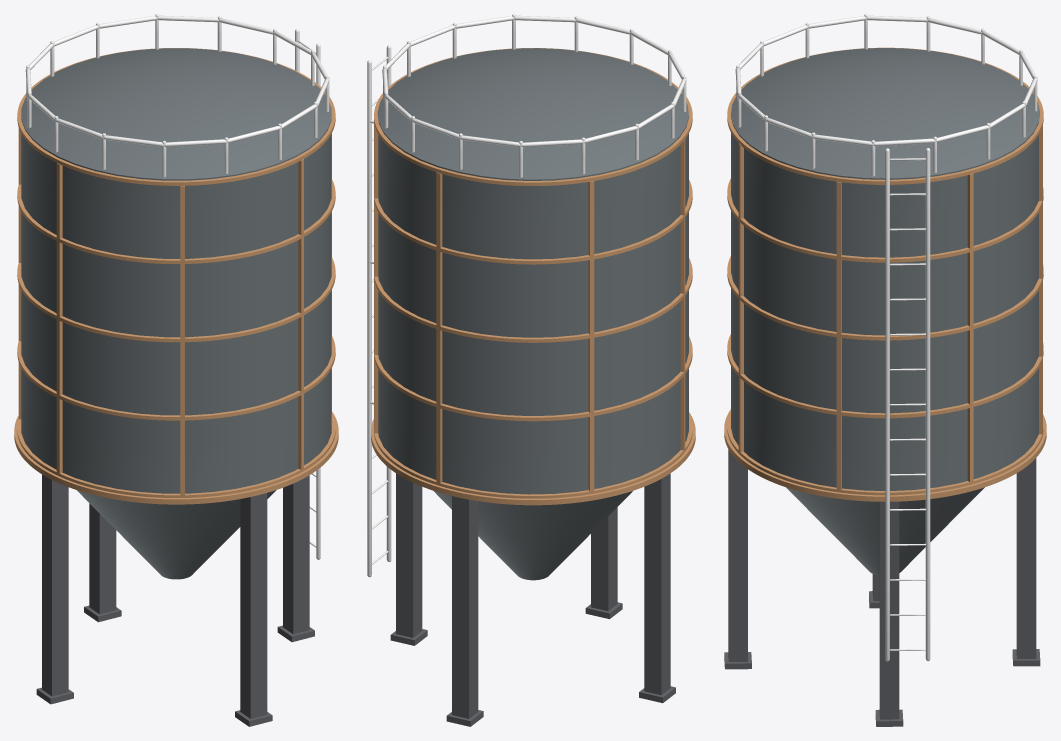
The model's file is p4_plantComponents.gltf.
3 renders of one model, left to right at view 1: azimuth 30°, elevation 25°; view 2: azimuth 150°, elevation 25°; view 3: azimuth 270°, elevation 25°, orthographic.
Parts seen in each view (by area): view 1: Oil Tank, Cube, Cube.2, Cube.3, Cube.1, Tube 4, Tube, Tube 1, Tube 2, Tube 3, Cube 5, Tube 0 (+4 smaller); view 2: Oil Tank, Cube.1, Cube.2, Cube.3, Cube, Tube, Tube 4, Cylinder.1, Tube 2, Tube 3, Tube 1, Cube 6 (+5 smaller); view 3: Oil Tank, Cube.1, Cube, Cube.3, Cylinder.1, Tube 4, Tube, Cylinder, Tube 3, Cube 1, Tube 1, Tube 2 (+4 smaller).
Part boxes in pixels (<box>): Oil Tank: <box>21,48,331,579</box>; Cube: <box>235,493,272,726</box>; Cube.2: <box>36,474,73,704</box>; Cube.3: <box>277,475,314,642</box>; Cube.1: <box>84,503,121,622</box>; Tube 4: <box>17,48,335,185</box>; Tube: <box>14,412,338,504</box>; Tube 1: <box>17,336,335,420</box>; Tube 2: <box>17,258,335,342</box>; Tube 3: <box>17,179,335,263</box>; Cube 5: <box>56,163,62,473</box>; Tube 0: <box>17,414,335,497</box>; Oil Tank: <box>377,48,688,580</box>; Cube.1: <box>446,496,483,726</box>; Cube.2: <box>639,473,675,703</box>; Cube.3: <box>390,473,427,645</box>; Cube: <box>585,507,622,619</box>; Tube: <box>371,412,695,505</box>; Tube 4: <box>374,48,692,185</box>; Cylinder.1: <box>367,60,371,577</box>; Tube 2: <box>374,258,692,342</box>; Tube 3: <box>374,180,692,264</box>; Tube 1: <box>374,336,692,421</box>; Cube 6: <box>588,181,594,491</box>; Oil Tank: <box>731,48,1039,575</box>; Cube.1: <box>1012,458,1040,666</box>; Cube: <box>724,449,751,669</box>; Cube.3: <box>875,501,903,726</box>; Cylinder.1: <box>925,148,930,661</box>; Tube 4: <box>727,47,1043,184</box>; Tube: <box>724,409,1046,501</box>; Cylinder: <box>885,148,889,661</box>; Tube 3: <box>727,178,1043,262</box>; Cube 1: <box>967,173,973,482</box>; Tube 1: <box>727,334,1043,418</box>; Tube 2: <box>727,256,1043,340</box>.
Size of the model in its own units: 636 by 1251 by 626.
